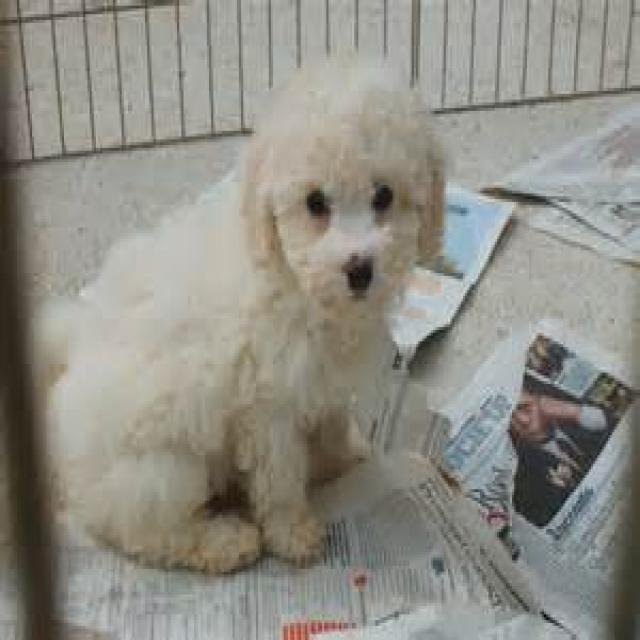dog: (30, 62, 446, 574)
